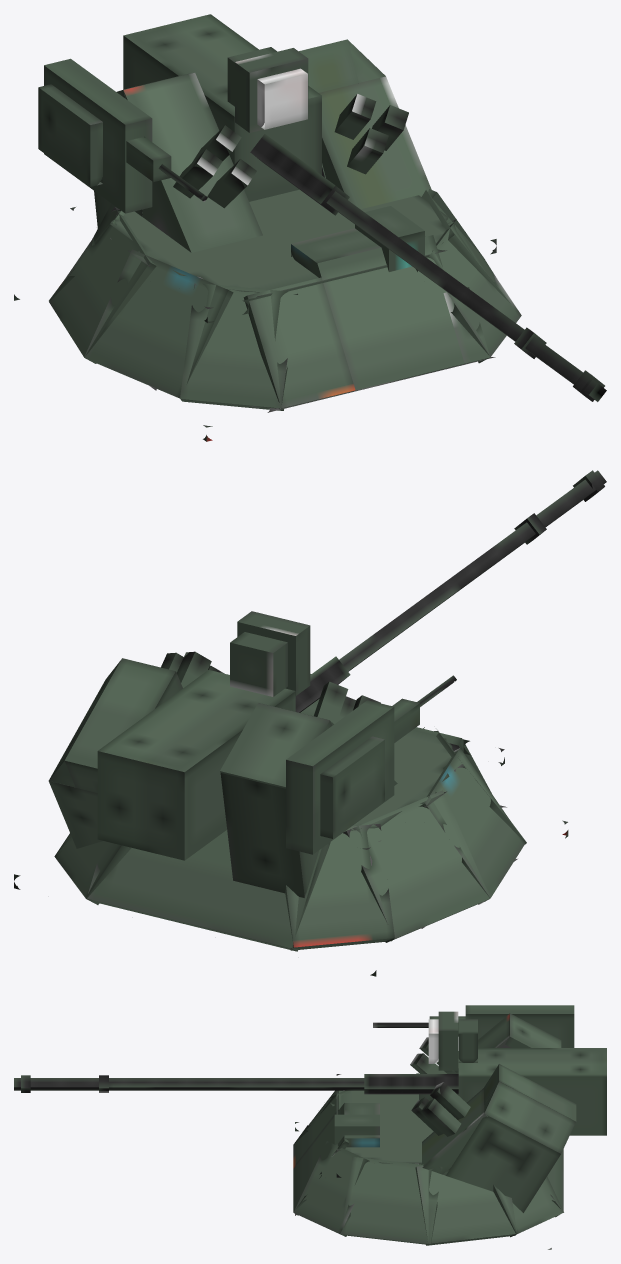
The model's file is turret_btr80a.obj.
3 renders of one model, top to bottom at view 1: azimuth 30°, elevation 25°; view 2: azimuth 150°, elevation 25°; view 3: azimuth 270°, elevation 25°, orthographic. The views are drawn at different scales.
Visible parts, largest first — view 1: turret, gun; view 2: turret, gun; view 3: turret, gun.
Boxes of the visible parts, <box> form: turret: <box>14,39,521,441</box>; gun: <box>38,14,606,401</box>; turret: <box>14,651,568,976</box>; gun: <box>97,470,606,860</box>; turret: <box>293,1013,576,1249</box>; gun: <box>14,1005,606,1135</box>.
Size of the model in its own units: 1.86 by 1.17 by 3.56.
